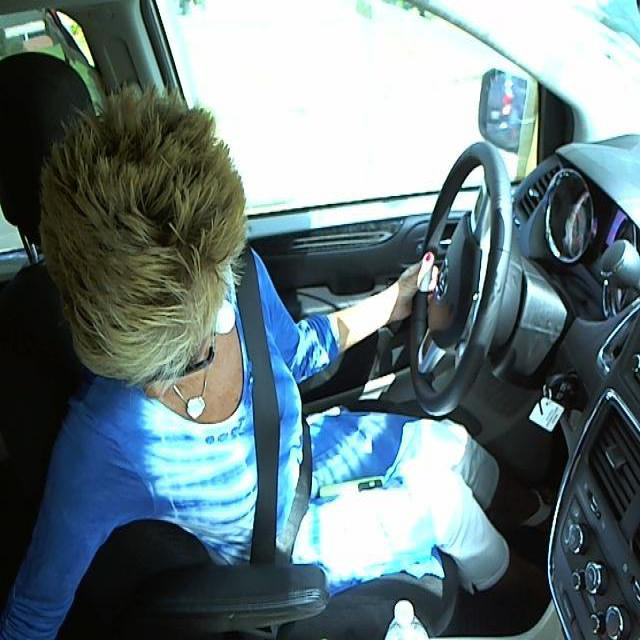seatbelt: (231, 276, 325, 565)
